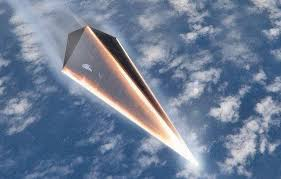ten_lua: (56, 23, 201, 168)
